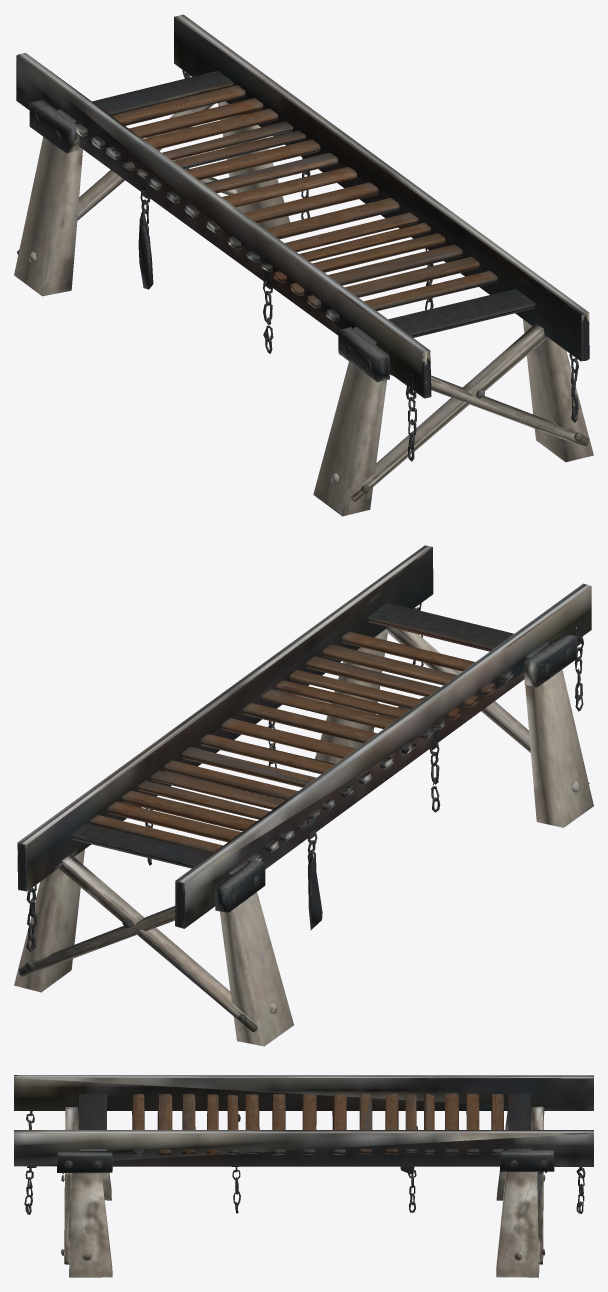
The model's file is broken-rail-trestle-v2.glb.
3 views of the same model, one above another, from view 1: azimuth 30°, elevation 25°; view 2: azimuth 150°, elevation 25°; view 3: azimuth 270°, elevation 25° (orthographic). The views are drawn at different scales.
Visible parts, largest first — view 1: broken-rail-trestle-v2; view 2: broken-rail-trestle-v2; view 3: broken-rail-trestle-v2.
Boxes of the visible parts, x1,y1,x2,y2 form: broken-rail-trestle-v2: (14, 14, 593, 516); broken-rail-trestle-v2: (14, 545, 593, 1046); broken-rail-trestle-v2: (14, 1075, 593, 1277).
Bounding box in the file's own units: 0.3569 × 0.2482 × 1.
1 material, 1 textured.
